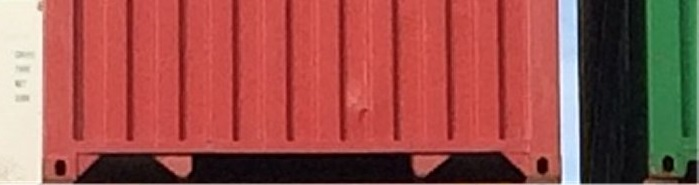container_no_door: (44, 1, 562, 181)
